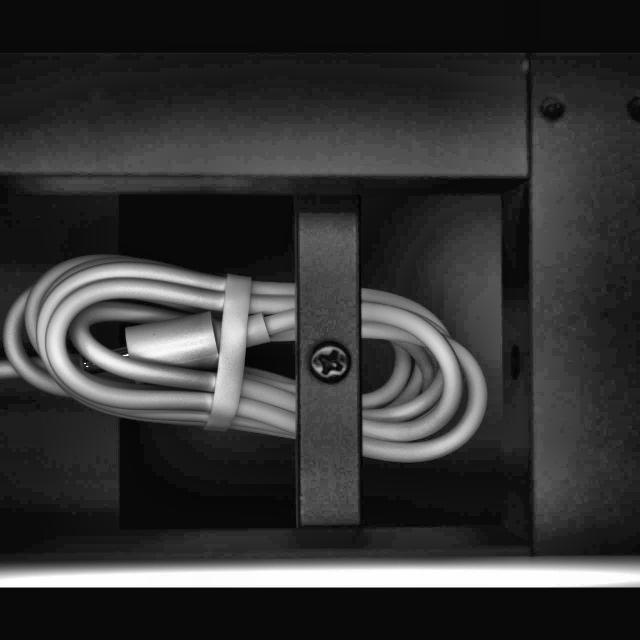Cable: (0, 247, 489, 467)
